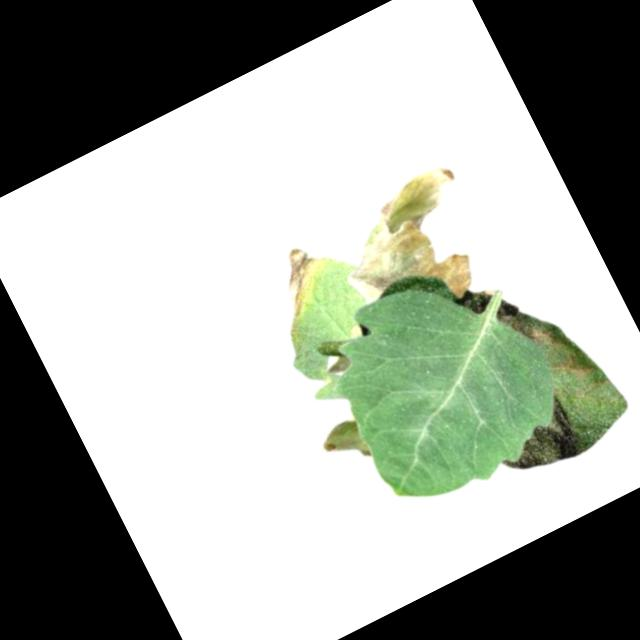Late_blight: (314, 158, 503, 339), (263, 239, 338, 318), (313, 416, 370, 474), (547, 346, 598, 393), (526, 318, 562, 354)
healthy: (286, 247, 574, 532)
